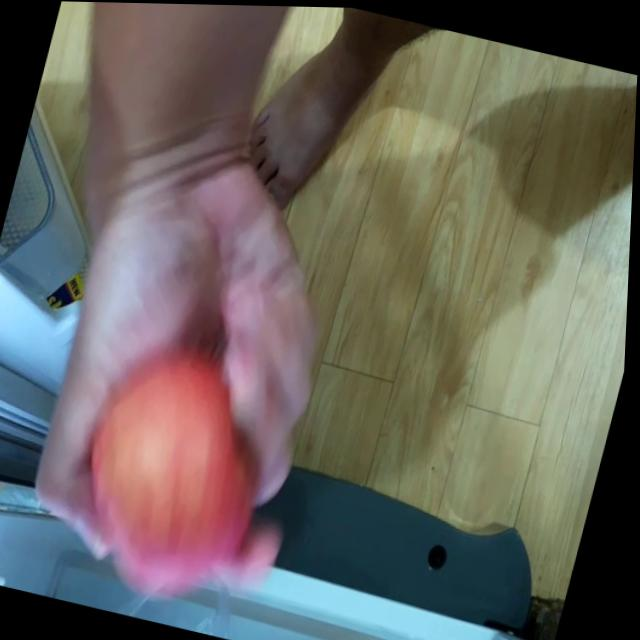apple: (75, 332, 286, 610)
